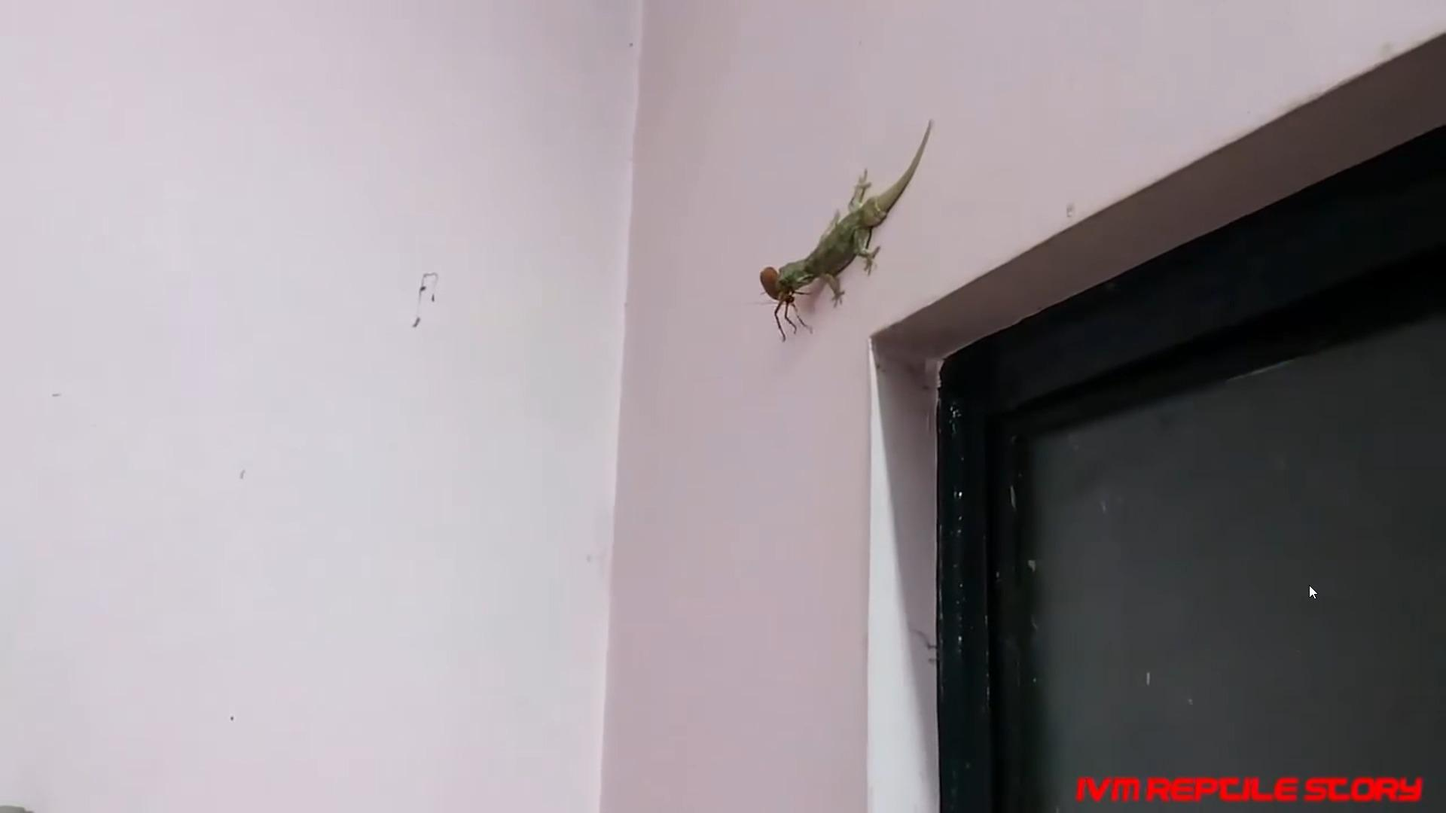cockroach: (749, 262, 797, 313)
lizard: (769, 156, 929, 277)
